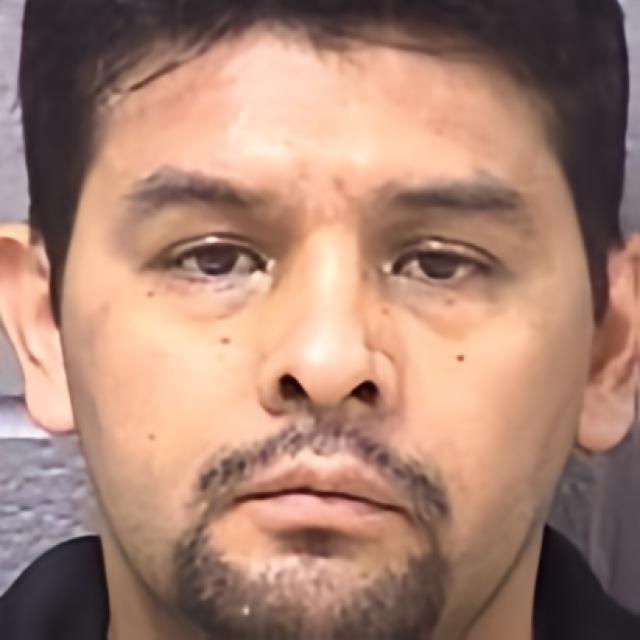neutral: (75, 17, 558, 626)
